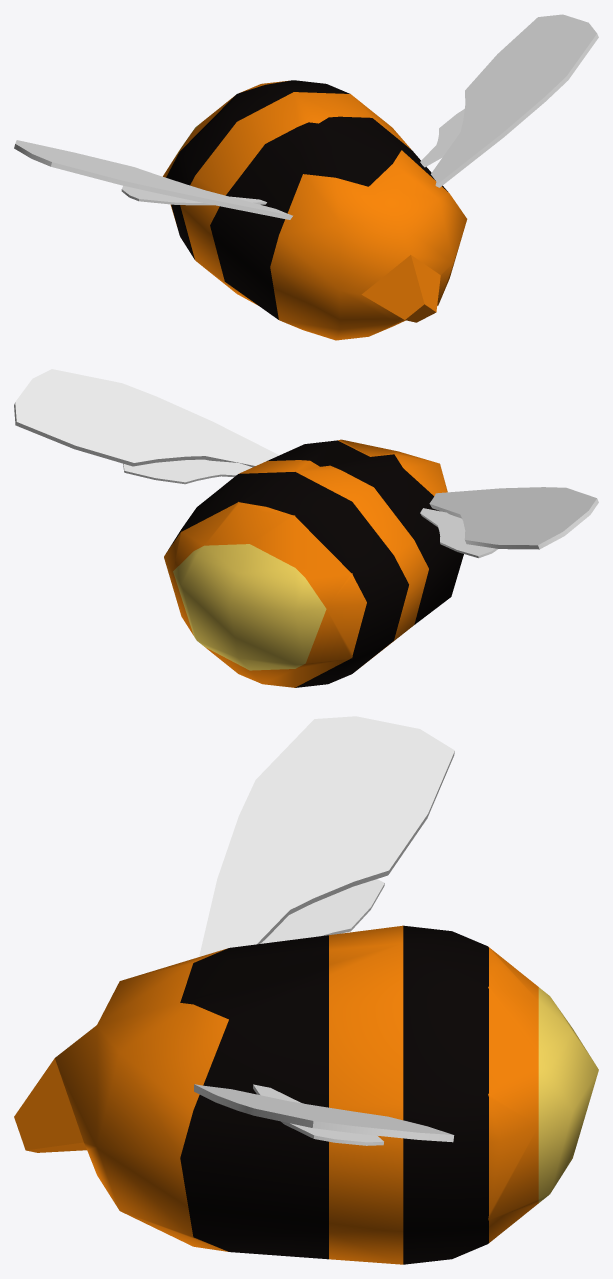
The model's file is bee_03.FBX.
3 renders of one model, top to bottom at view 1: azimuth 30°, elevation 25°; view 2: azimuth 150°, elevation 25°; view 3: azimuth 270°, elevation 25°, orthographic. The views are drawn at different scales.
Parts seen in each view (by area): view 1: Sphere001, Plane002, Plane001, Plane003, Plane004; view 2: Sphere001, Plane002, Plane001, Plane003, Plane004; view 3: Sphere001, Plane001, Plane002, Plane004, Plane003.
Part boxes in pixels (left/top/right/bottom): Sphere001: left=163, top=80, right=467, bottom=340; Plane002: left=431, top=14, right=598, bottom=187; Plane001: left=14, top=140, right=292, bottom=219; Plane003: left=420, top=109, right=464, bottom=167; Plane004: left=121, top=185, right=266, bottom=205; Sphere001: left=164, top=439, right=463, bottom=687; Plane002: left=14, top=369, right=279, bottom=467; Plane001: left=429, top=487, right=598, bottom=549; Plane003: left=123, top=459, right=252, bottom=484; Plane004: left=420, top=508, right=497, bottom=558; Sphere001: left=14, top=925, right=598, bottom=1264; Plane001: left=199, top=716, right=454, bottom=956; Plane002: left=194, top=1084, right=454, bottom=1142; Plane004: left=260, top=879, right=384, bottom=943; Plane003: left=253, top=1084, right=383, bottom=1145.
Bounding box in the file's own units: 133 × 48.71 × 80.85.
